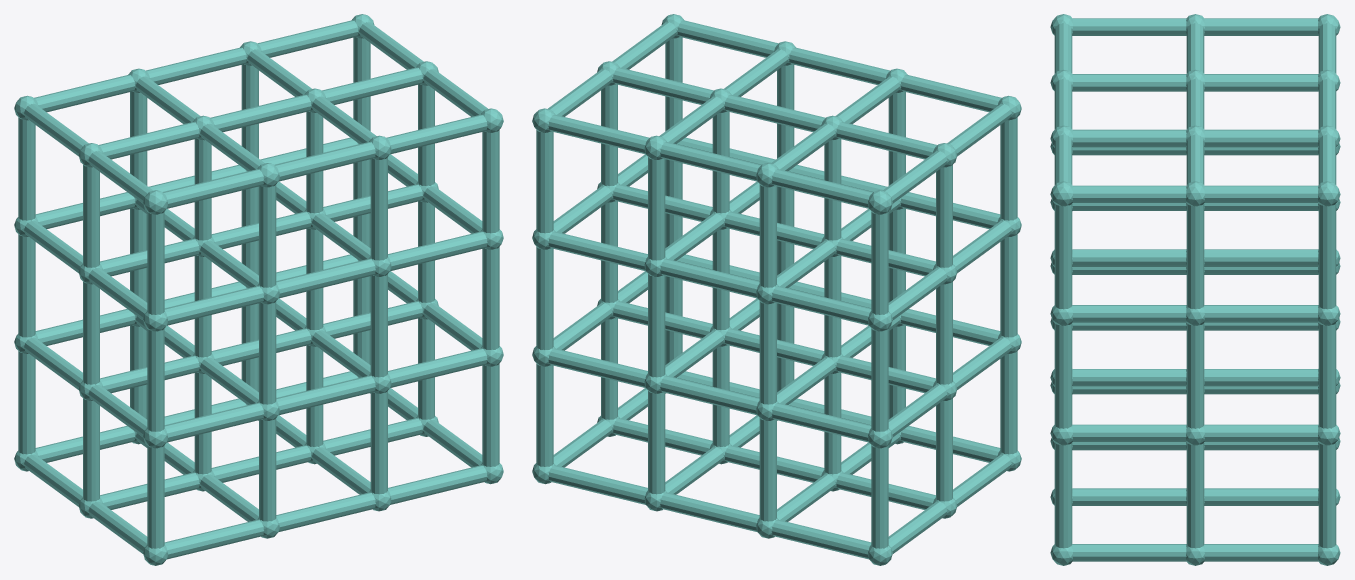
Rendered from cubic_lattice_demo.glb.
3 views of the same model, side by side, from view 1: azimuth 30°, elevation 25°; view 2: azimuth 150°, elevation 25°; view 3: azimuth 270°, elevation 25° (orthographic). The views are drawn at different scales.
Visible parts, largest first — view 1: cubic_lattice; view 2: cubic_lattice; view 3: cubic_lattice.
Boxes of the visible parts, left/top/right/bottom form: cubic_lattice: left=14, top=14, right=503, bottom=565; cubic_lattice: left=532, top=14, right=1021, bottom=565; cubic_lattice: left=1050, top=14, right=1340, bottom=565.
Size of the model in its own units: 38.4 by 38.4 by 26.4.
